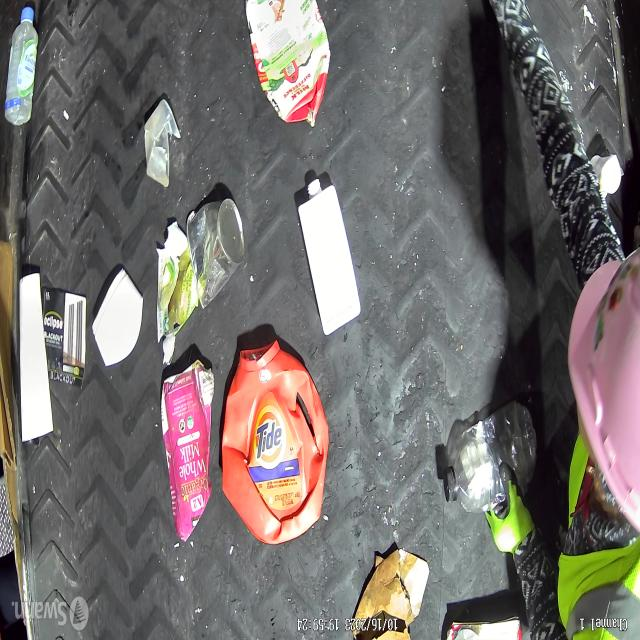can: (183, 188, 244, 308)
non_white_jug: (222, 337, 332, 554), (245, 0, 332, 127), (161, 358, 215, 541)
plastic_bottle: (442, 403, 538, 512), (0, 0, 42, 128)
